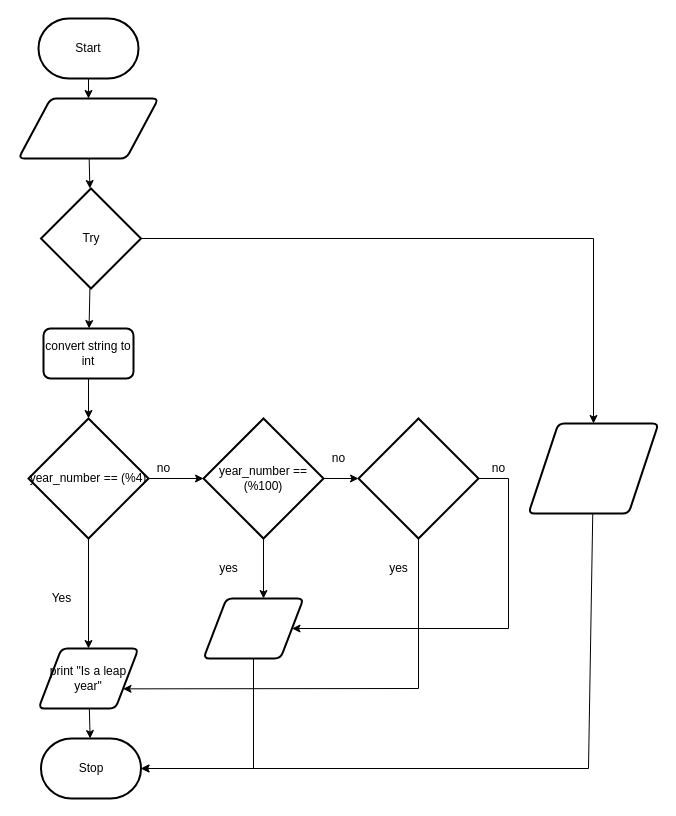
Some shapes in this 676 by 816 pixel diagram are drawn without their labels. Each missing label, with the centre of its shape:
Get year_Number: point 88,128
print "Invalid Year, not accepted.": point 593,468
print "Is not a leap year": point 253,628
year_number == (%400): point 418,478
